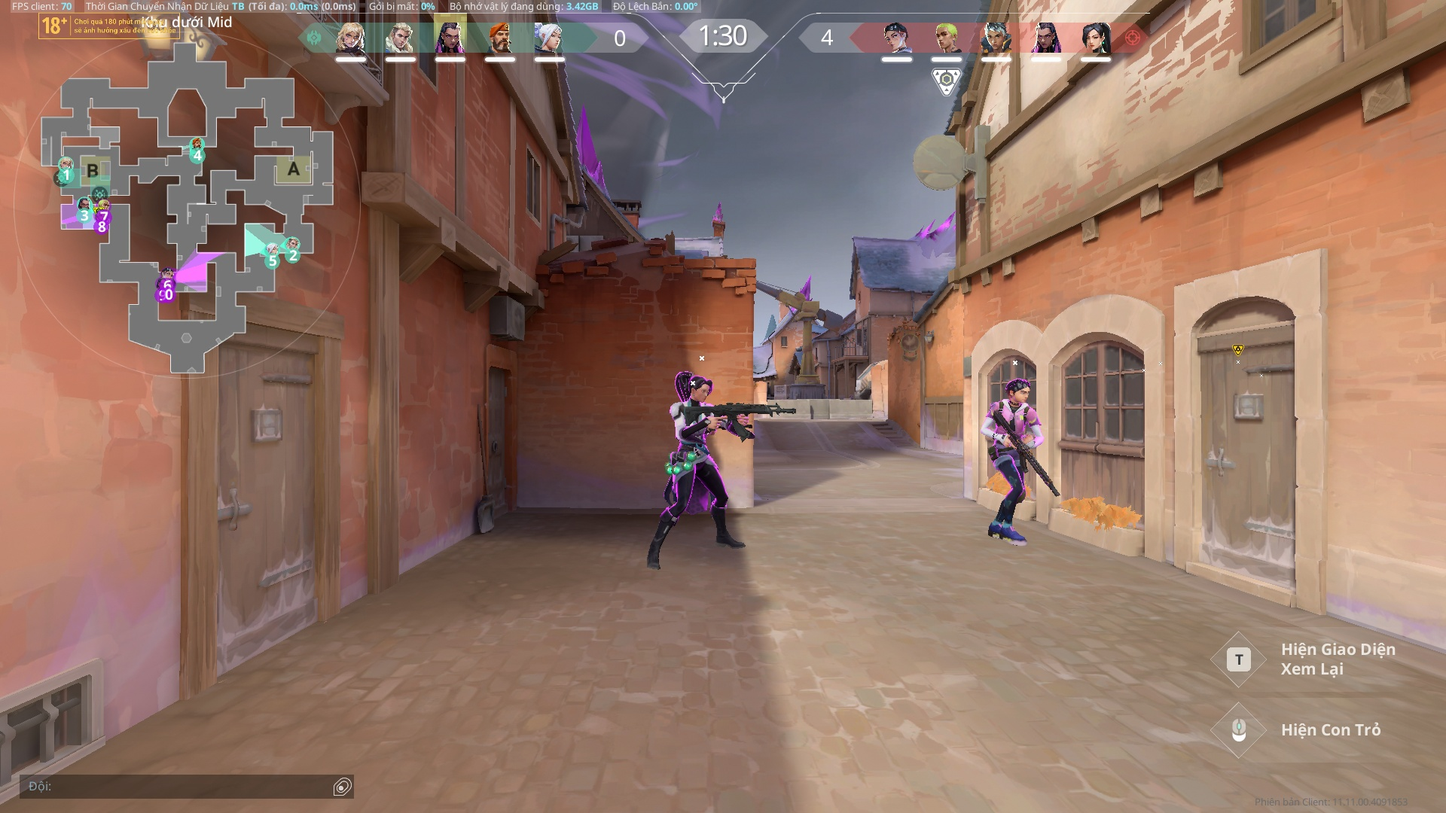body: (991, 398, 1038, 450), (673, 399, 720, 446)
head: (1005, 378, 1033, 404), (688, 375, 712, 401)
